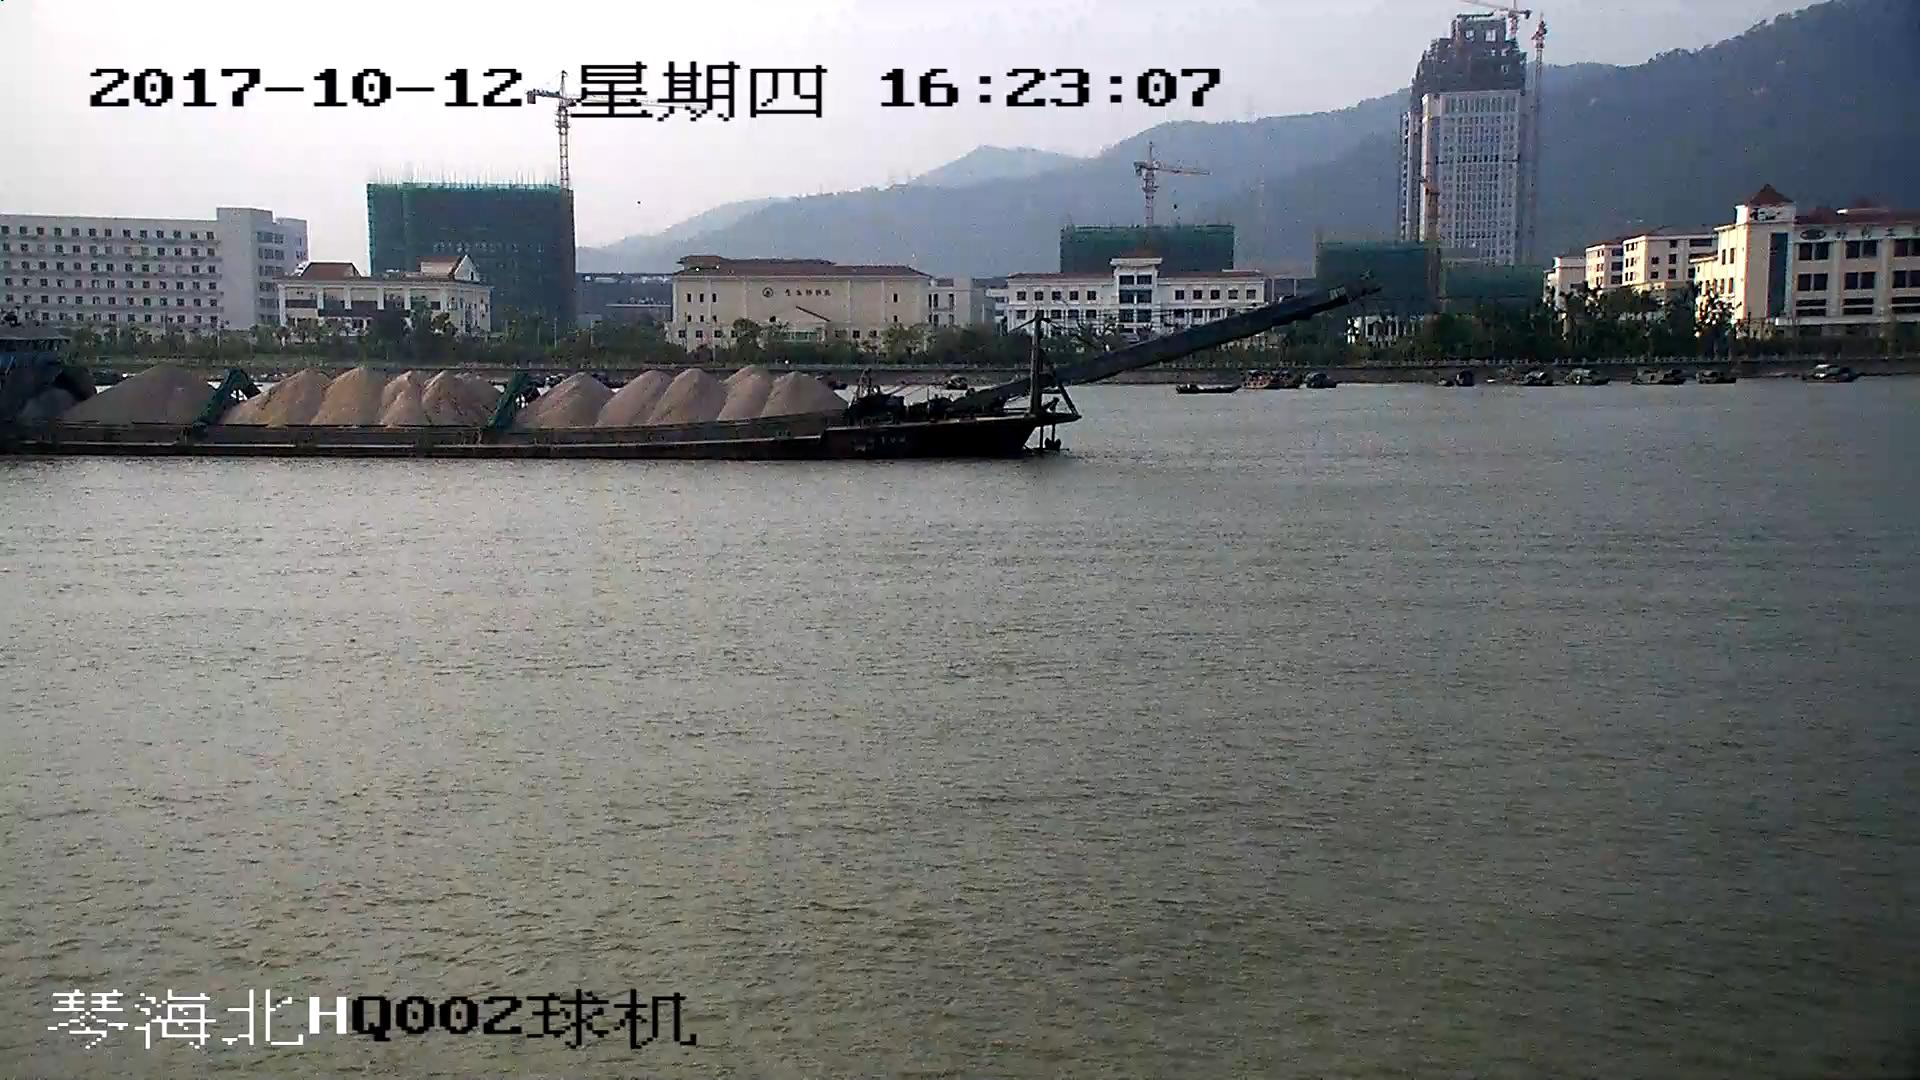ore carrier: (1, 272, 1372, 463)
